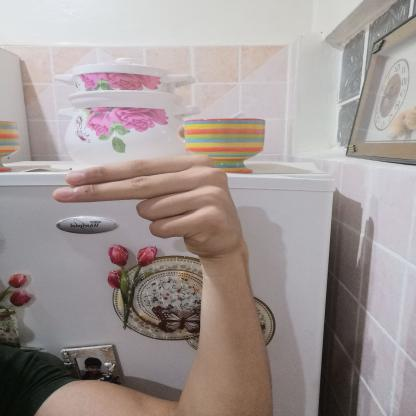AYN: (38, 140, 258, 272)
